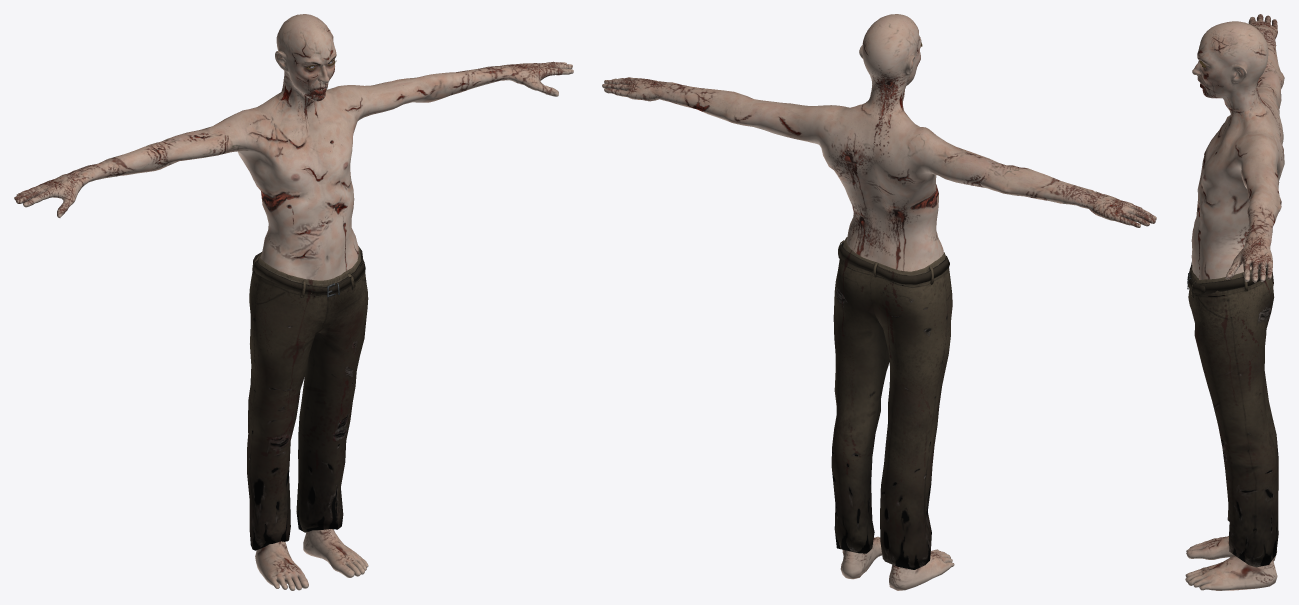
The model's file is zombieMan.glb.
3 renders of one model, left to right at view 1: azimuth 30°, elevation 25°; view 2: azimuth 150°, elevation 25°; view 3: azimuth 270°, elevation 25°, orthographic.
Visible parts, largest first — view 1: Object_3, Object_2; view 2: Object_3, Object_2; view 3: Object_3, Object_2.
Boxes of the visible parts, left/top/right/bottom form: Object_3: left=14, top=14, right=573, bottom=590; Object_2: left=247, top=246, right=368, bottom=550; Object_3: left=602, top=14, right=1156, bottom=590; Object_2: left=831, top=237, right=952, bottom=569; Object_3: left=1185, top=14, right=1284, bottom=590; Object_2: left=1187, top=262, right=1278, bottom=567.
Bounding box in the file's own units: 187 × 179 × 29.29.
2 materials, 2 textured.
